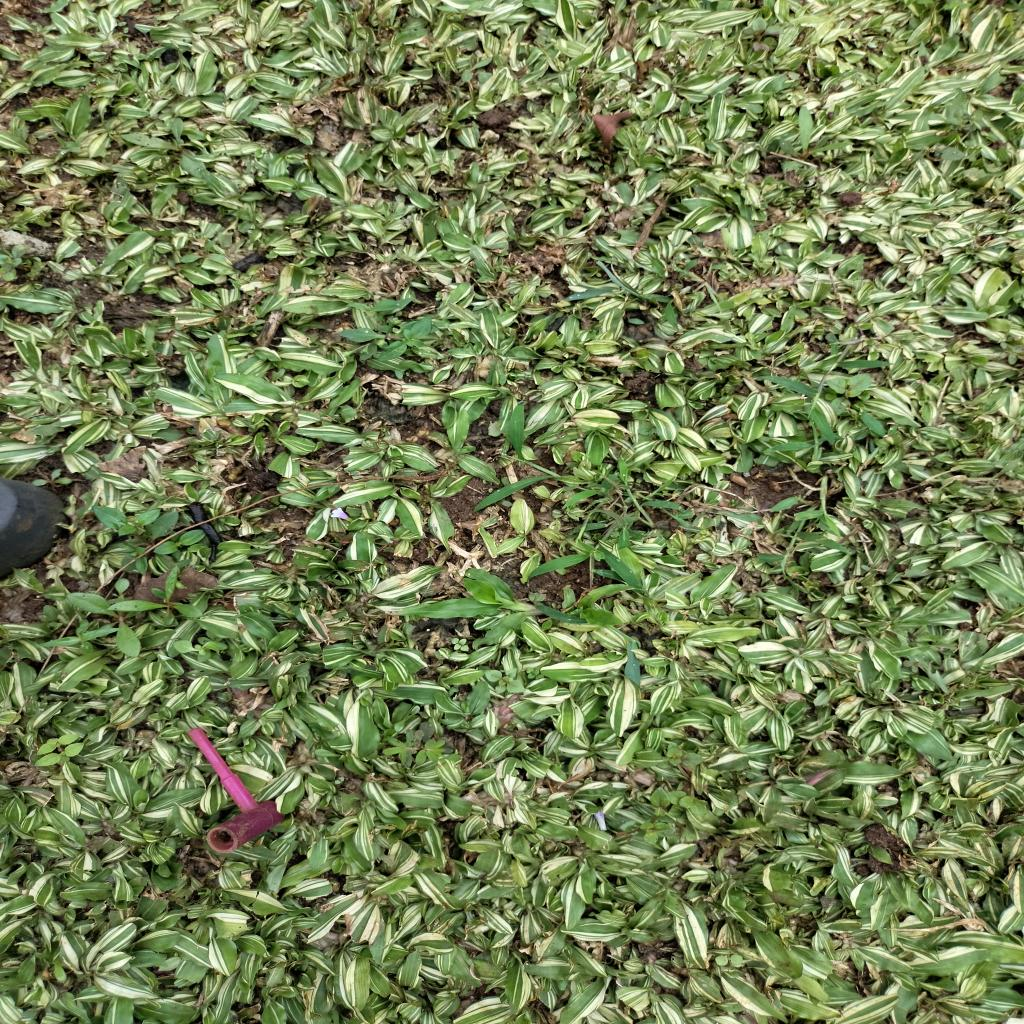bayi: (712, 953, 746, 968)
buah daun: (380, 718, 454, 770)
gingseng jawa: (118, 113, 211, 184), (103, 563, 210, 624), (59, 590, 146, 658), (775, 103, 858, 172), (458, 55, 500, 88), (29, 467, 76, 492)
rambat atas: (751, 338, 898, 450), (470, 399, 560, 517), (525, 524, 651, 598), (561, 480, 695, 530), (766, 470, 844, 542), (761, 411, 845, 469), (661, 260, 726, 316), (607, 624, 644, 690)
rambat bawah: (396, 564, 561, 652), (568, 582, 634, 630)
ungu tunggang: (617, 784, 710, 846), (738, 14, 786, 54), (652, 743, 705, 771), (482, 667, 529, 698)
